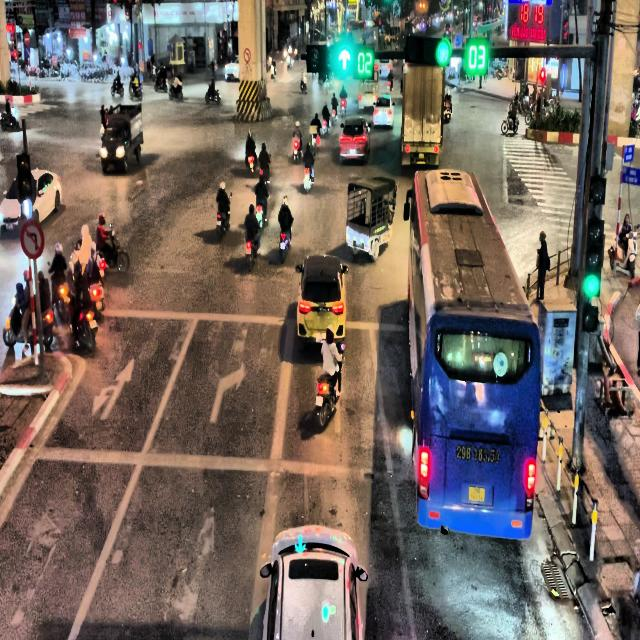BUS: (404, 168, 541, 539)
CAR: (259, 525, 368, 639), (295, 254, 349, 352), (0, 168, 62, 236), (339, 116, 371, 164), (372, 93, 394, 128), (224, 56, 239, 81)
MOTORBIKE: (2, 287, 54, 351), (314, 348, 344, 428), (66, 288, 98, 352), (100, 224, 129, 274), (47, 261, 70, 322), (216, 193, 232, 240), (246, 230, 260, 271), (279, 227, 291, 263), (501, 112, 519, 134), (255, 197, 267, 228), (303, 162, 314, 192), (154, 72, 168, 92), (170, 76, 182, 98), (129, 79, 142, 99), (206, 86, 220, 104), (443, 94, 452, 122), (293, 135, 302, 162), (246, 152, 256, 174), (111, 80, 124, 96), (320, 117, 329, 136), (300, 75, 307, 93), (270, 65, 276, 80), (332, 106, 338, 121)
TRUCK: (346, 176, 397, 261)
